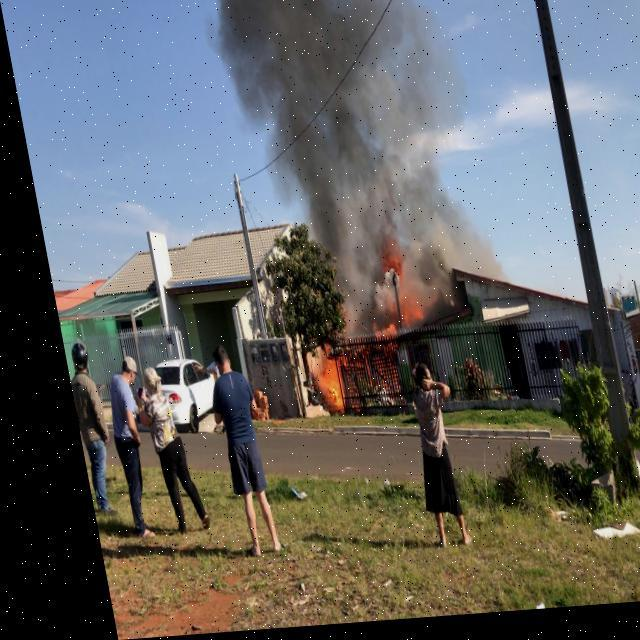Fire: (304, 362, 330, 412), (358, 325, 383, 341)
